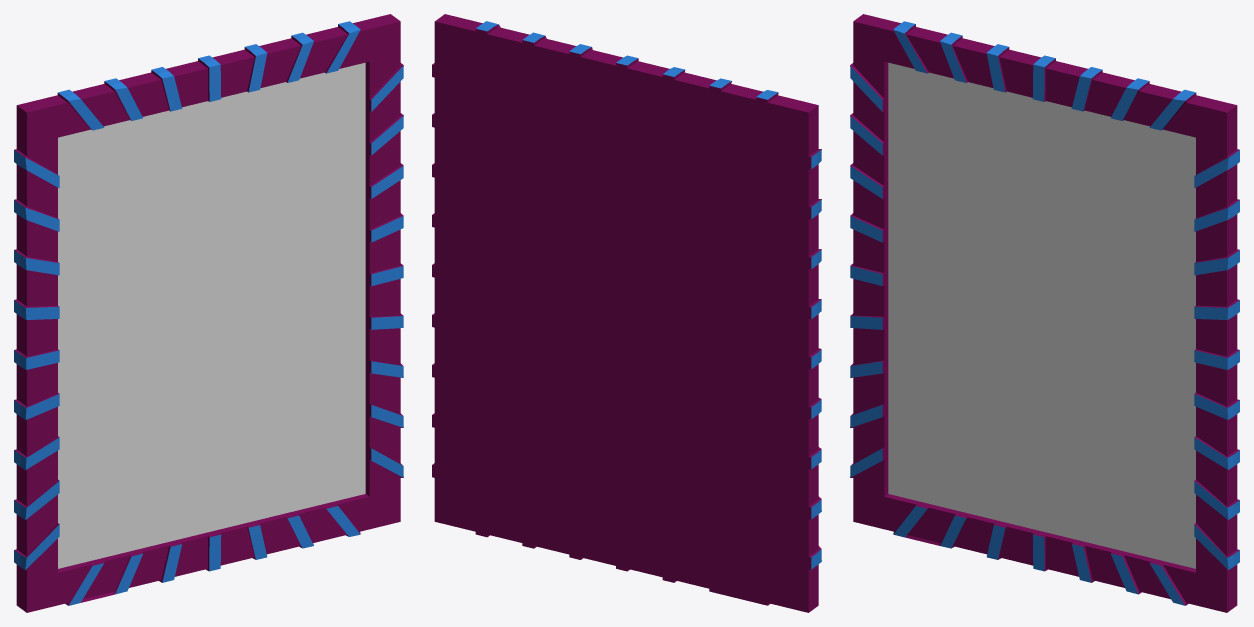
Rendered from FrameOrnaments.fbx.
3 views of the same model, side by side, from view 1: azimuth 30°, elevation 25°; view 2: azimuth 150°, elevation 25°; view 3: azimuth 330°, elevation 25° (orthographic).
Parts seen in each view (by area): view 1: FrameOrnaments; view 2: FrameOrnaments; view 3: FrameOrnaments.
Boxes of the visible parts, <box> form: FrameOrnaments: <box>14,14,403,612</box>; FrameOrnaments: <box>432,14,821,612</box>; FrameOrnaments: <box>850,14,1239,612</box>.
Size of the model in its own units: 39.65 by 50.55 by 2.12.
